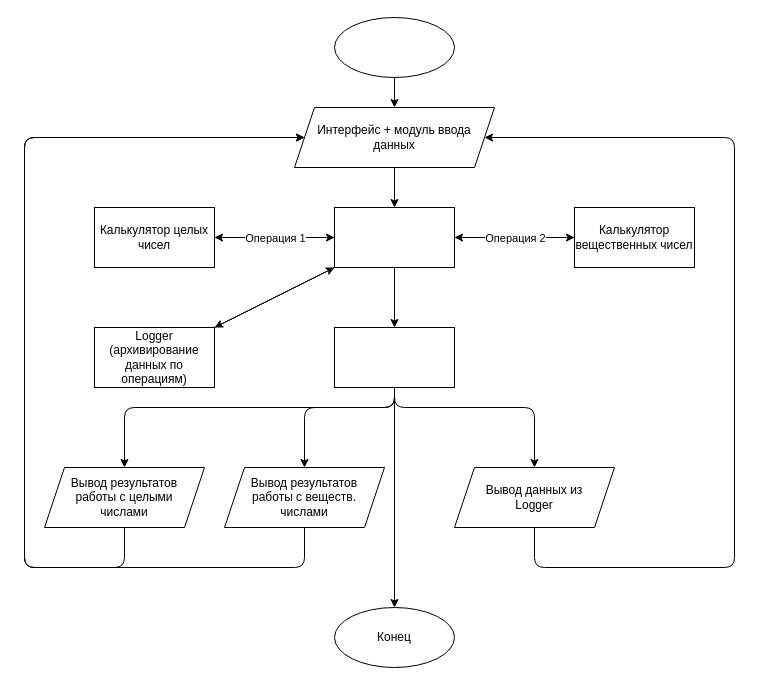
Image size: 760x685. Some labels were removed from this diagram. Each missing label, with the centre of its shape:
Main (модуль вывода данных): the point at 394,357
Контроллер: the point at 394,237
Начало: the point at 394,47
